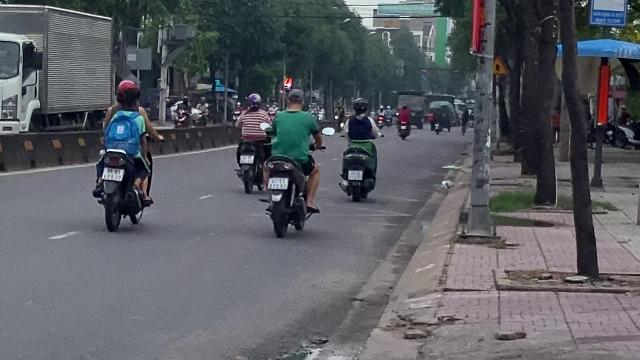helmet: (116, 79, 140, 97), (352, 98, 370, 116), (247, 93, 263, 110)
licenseplate: (102, 168, 124, 180), (268, 178, 288, 189), (348, 170, 362, 180), (240, 156, 254, 164)
motorcyclist: (90, 78, 156, 230), (262, 88, 324, 236), (337, 98, 381, 202), (230, 93, 270, 195)
nohelmet: (115, 88, 141, 114), (284, 88, 304, 110)
